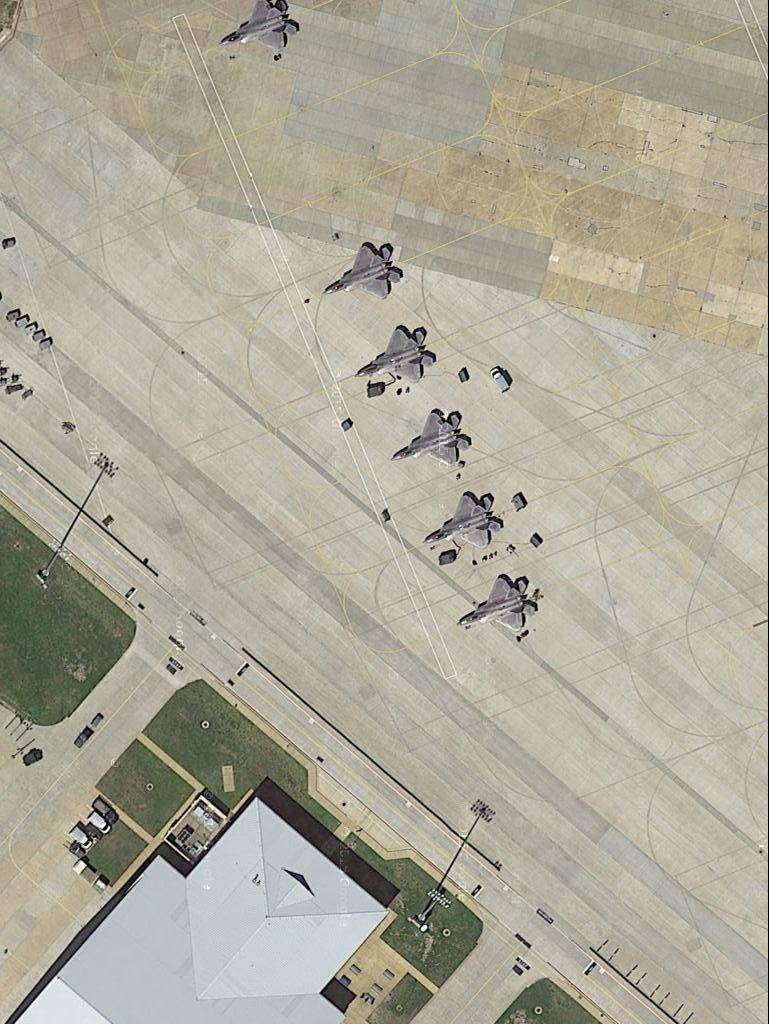F-22: (422, 488, 510, 554), (387, 405, 476, 470), (319, 235, 404, 303), (354, 321, 436, 390), (457, 567, 540, 635), (218, 1, 306, 60)
